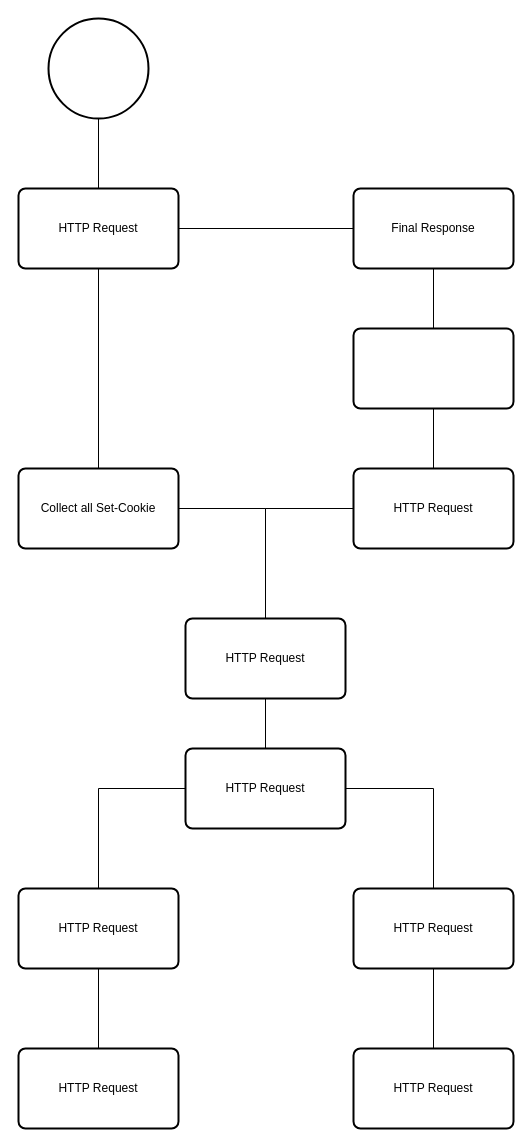
The diagram is 531 pixels wide and 1146 high, and some of its shapes have lost their labels. The centre of each missing label's shape, as x and y in pixels:
"Header: Set-Cookie" goes at (433,368).
"Start" goes at (98,68).
